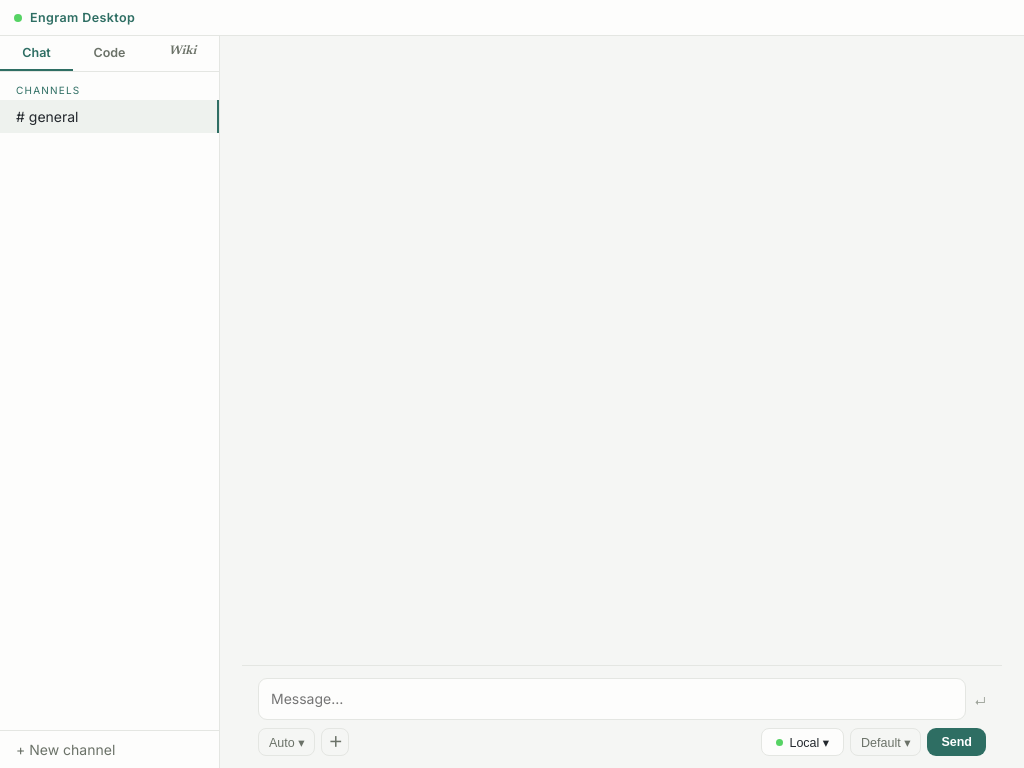
Test: 생성 중지(Task 4) — 버튼 스왑·Esc·중복 클릭 방지 › 중단 안내(msg) 도착 시 버튼이 보내기로 돌아오고 잠금도 풀린다
Expected: the text "# general" is shown, [16, 108, 78, 125]
Type "질문" into the text box with placeholder "Message…".
click(612, 699); type("질문")  # box [258, 678, 966, 720]
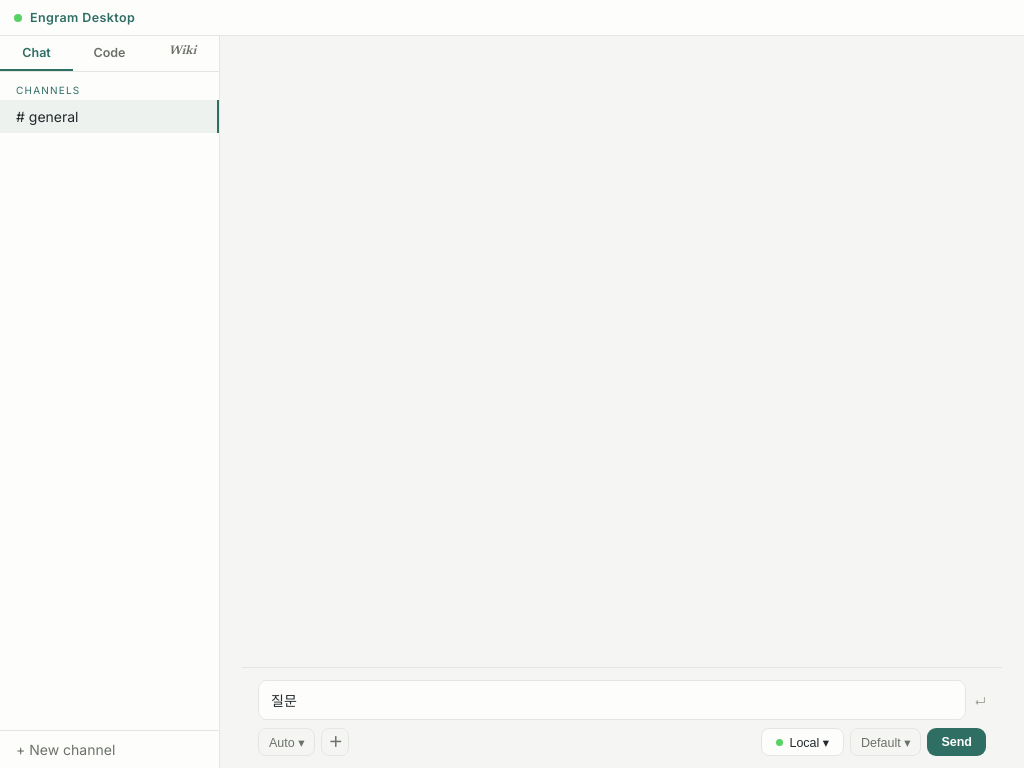
Press Enter in the text box, box [258, 680, 966, 720]
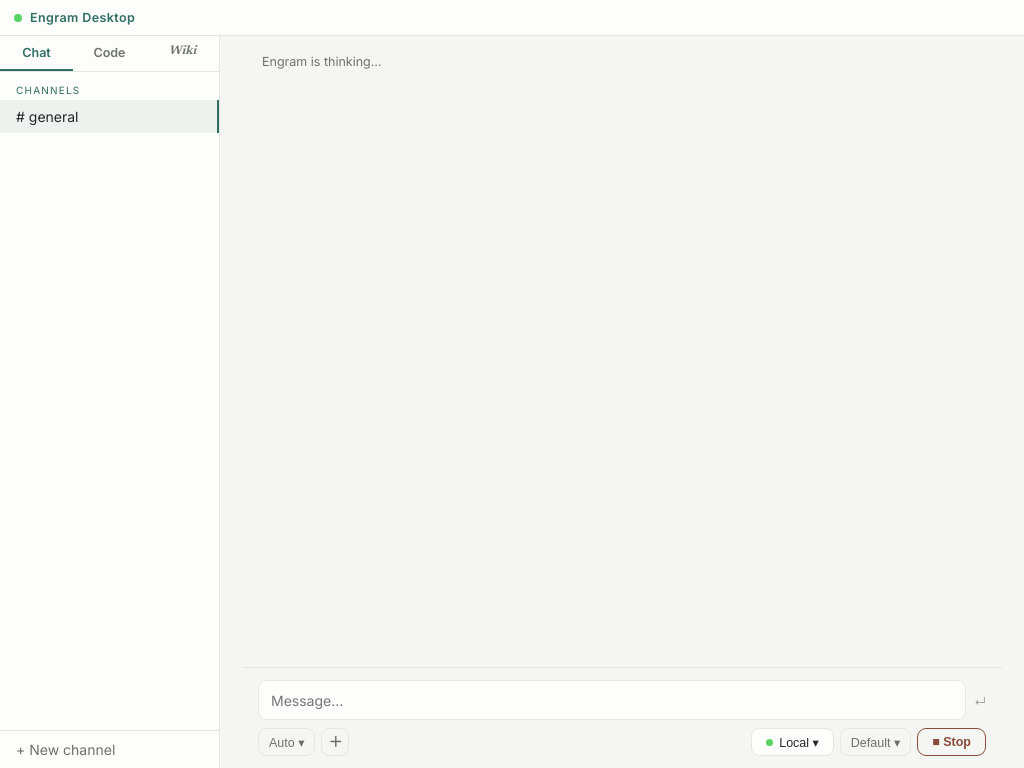
Now the text "Engram is thinking" is shown, box [262, 54, 371, 69]
Click the button "■ Stop".
click(952, 742)  # box [917, 728, 986, 756]
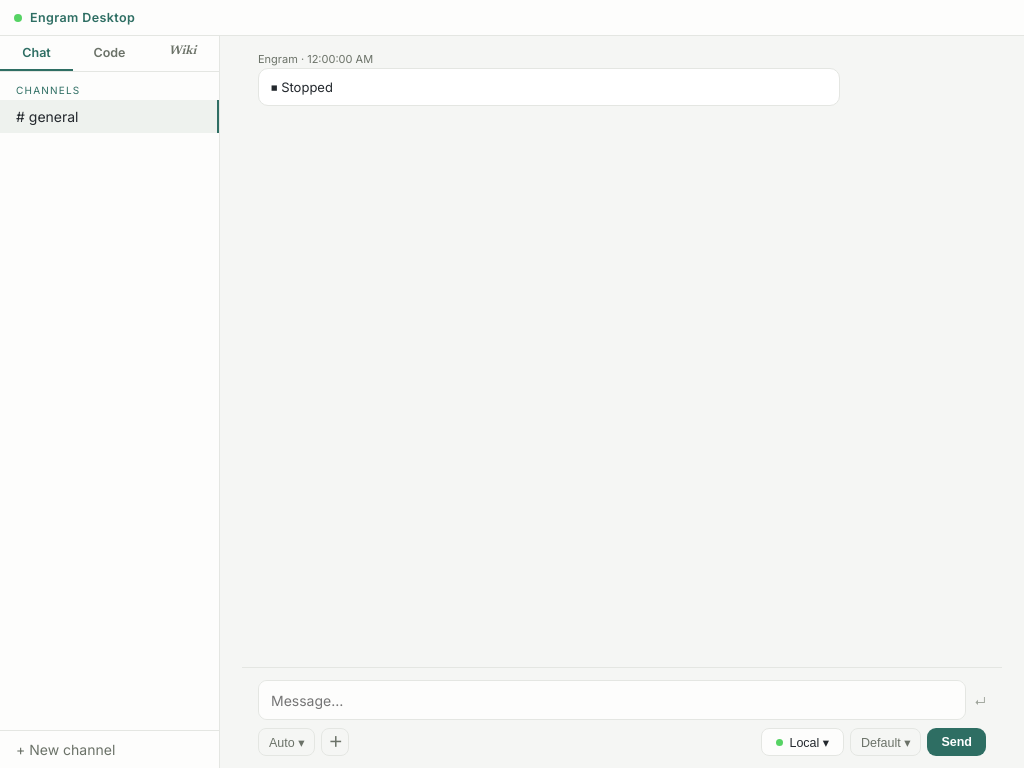
Now the button "Send" is shown, box [927, 728, 986, 756]
